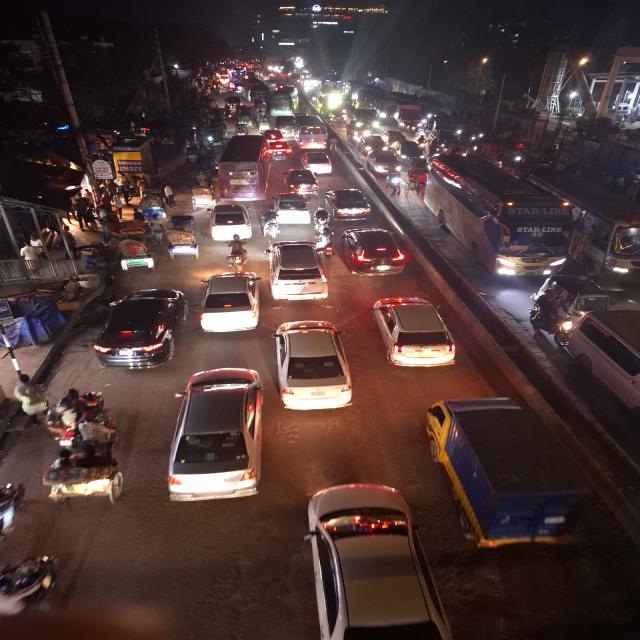bus: (424, 150, 574, 282), (212, 132, 272, 198), (293, 115, 328, 148), (372, 94, 396, 130), (272, 91, 292, 116)
car: (297, 479, 451, 640), (169, 367, 263, 509), (94, 284, 185, 373), (270, 320, 356, 413), (370, 292, 462, 373), (262, 240, 332, 308), (199, 272, 263, 336), (342, 224, 412, 280), (324, 183, 378, 221), (206, 201, 256, 242), (268, 190, 314, 228), (302, 148, 339, 178), (288, 167, 321, 195), (369, 151, 400, 173)
motorcycle: (530, 288, 576, 348), (219, 230, 256, 271), (386, 161, 406, 201), (261, 208, 281, 240), (314, 209, 334, 234)
pedestrian: (12, 377, 50, 426), (161, 183, 178, 210)
pickup_van: (346, 120, 370, 140)
rickshaw: (42, 414, 126, 508), (112, 224, 162, 274), (158, 214, 202, 262), (186, 177, 213, 213)
truck: (422, 399, 590, 556), (395, 99, 424, 133)
